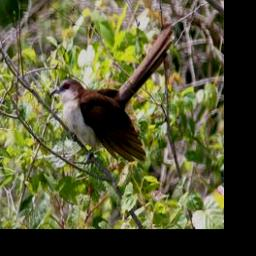Cuckoo: (48, 20, 147, 169)
